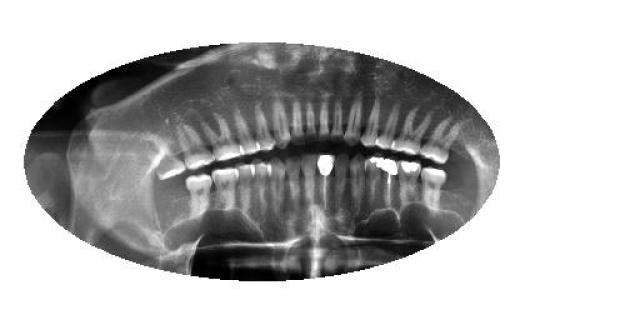Fillings: (396, 160, 422, 206), (364, 152, 385, 206)
Implant: (316, 152, 335, 212), (382, 158, 398, 210)
